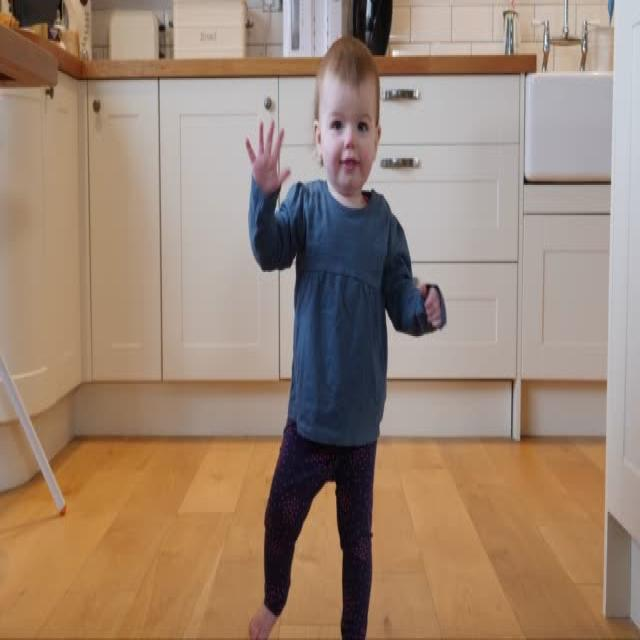Person: (244, 37, 446, 640)
